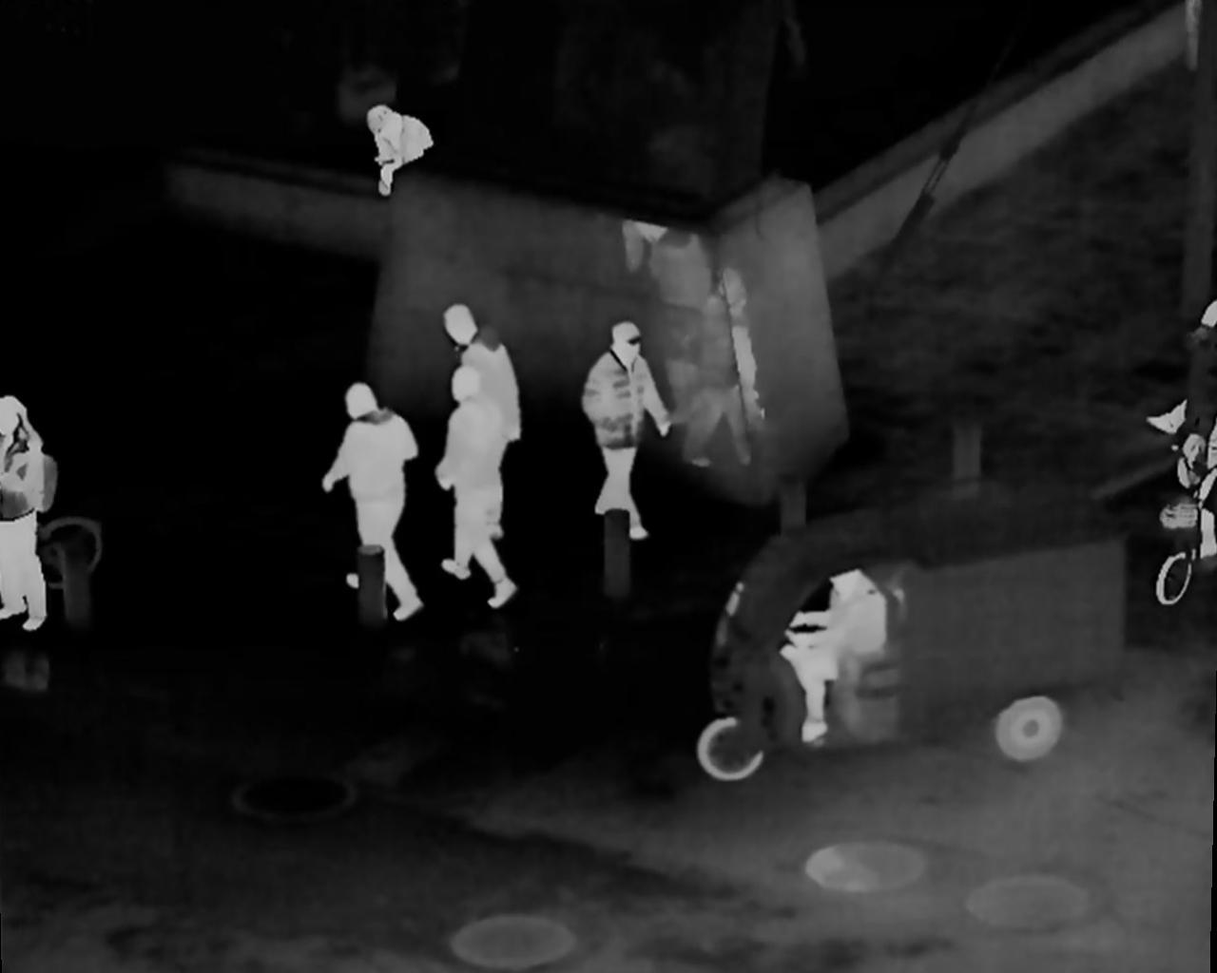person: (335, 378, 424, 617), (781, 557, 895, 742), (430, 372, 515, 619), (444, 301, 525, 516), (582, 313, 654, 539), (1163, 306, 1217, 569), (362, 105, 444, 189)
